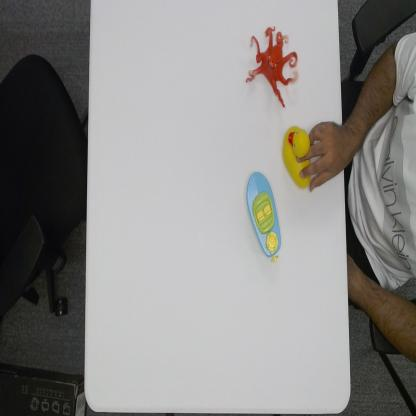Boat: (246, 171, 282, 266)
Duck: (281, 123, 312, 190)
Hand: (297, 113, 347, 191)
Octopus: (245, 25, 300, 110)
